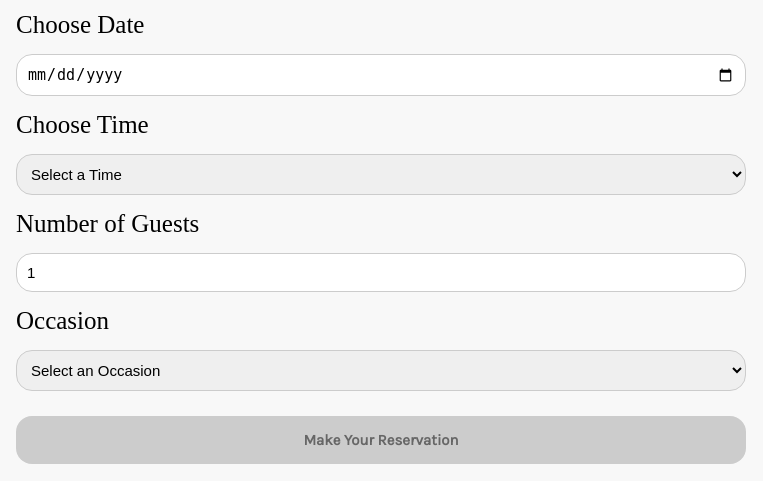
Test: ReservationForm Validation Logic › Submit button is enabled when all inputs are valid
Type "2024-12-31" into the date field labelled "Choose Date".
click(381, 75); type("2024-12-31")  # box [16, 54, 746, 96]
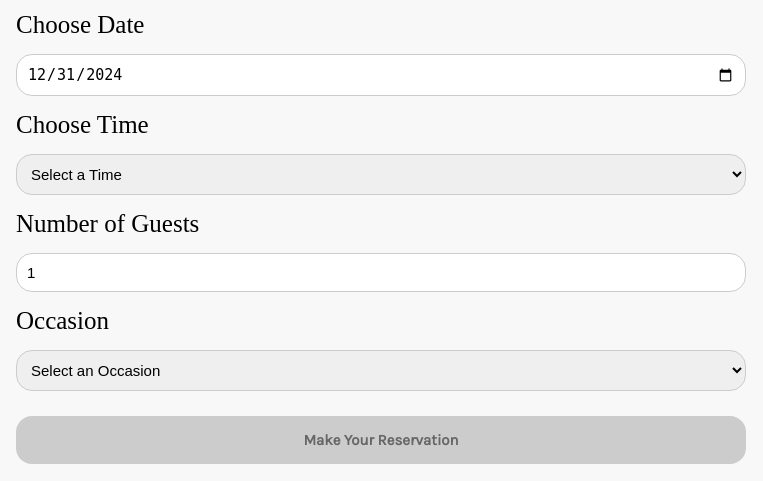
Select "18:00" in the dropdown labelled "Choose Time" at [381, 174], box [16, 154, 746, 195]
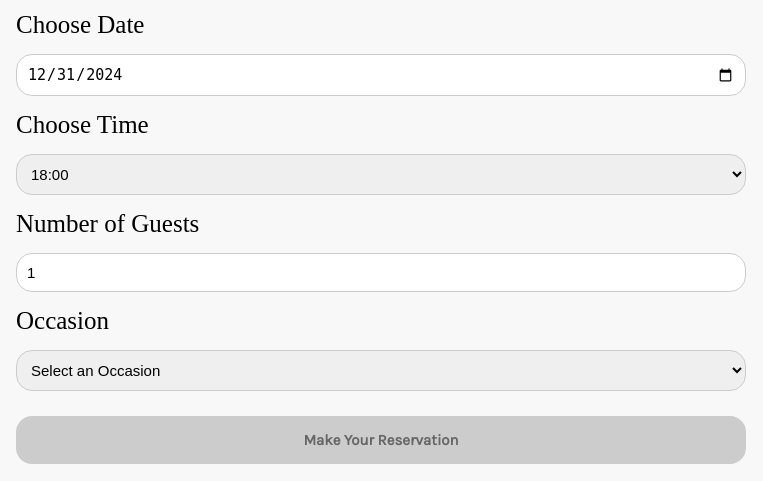
Replace the text in the number field labelled "Number of Guests" with "3" at [381, 272], box [16, 253, 746, 292]
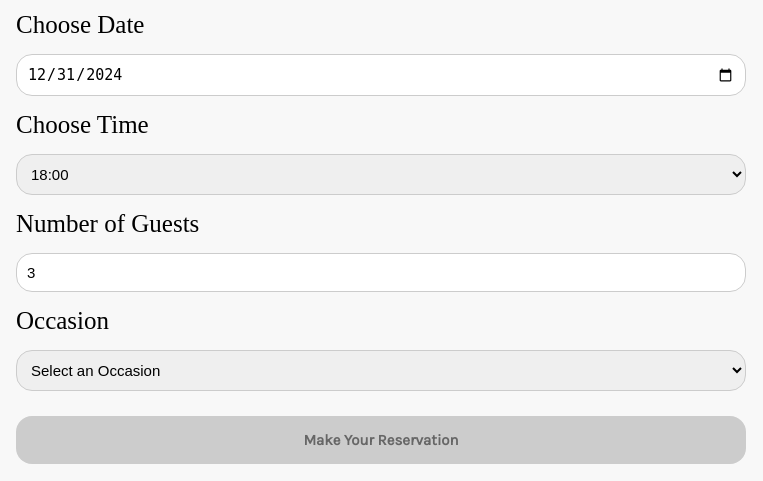
Select "Birthday" in the dropdown labelled "Occasion" at [381, 370], box [16, 350, 746, 391]
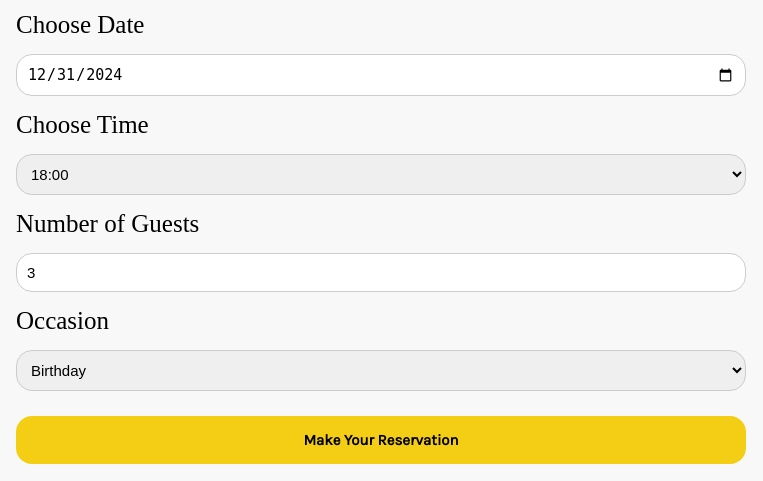
Check: the button "Make Your Reservation" is enabled, box [16, 416, 746, 464]
